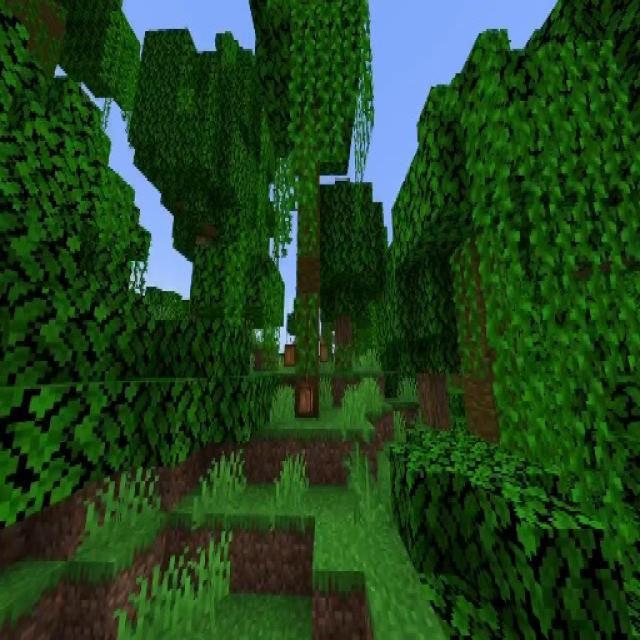jungle: (242, 8, 377, 415)
jungle_log: (457, 241, 495, 431), (296, 95, 318, 418)
oak: (380, 230, 482, 432)
oak_log: (419, 371, 450, 434)
